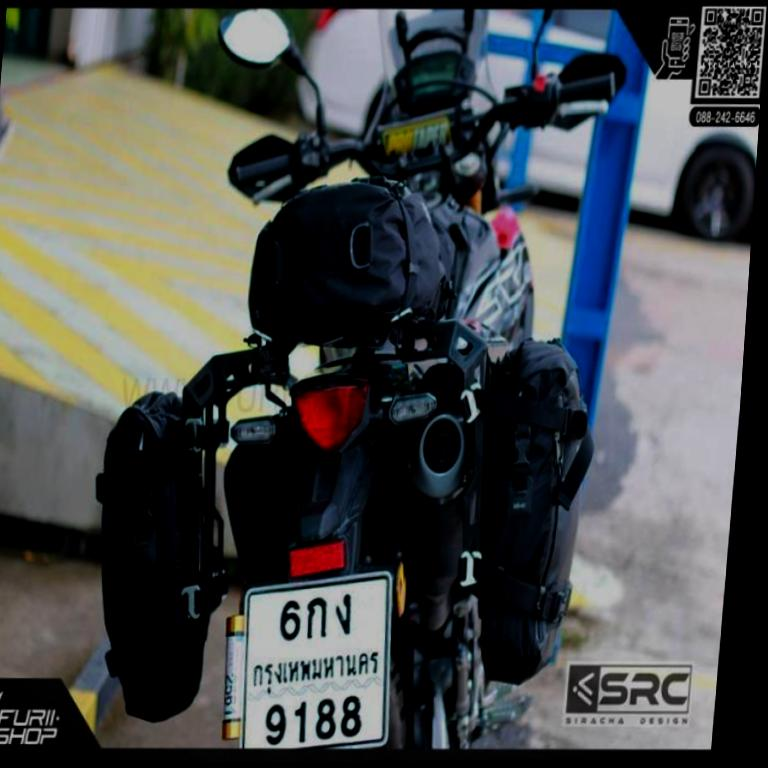license plate: (240, 569, 393, 746)
